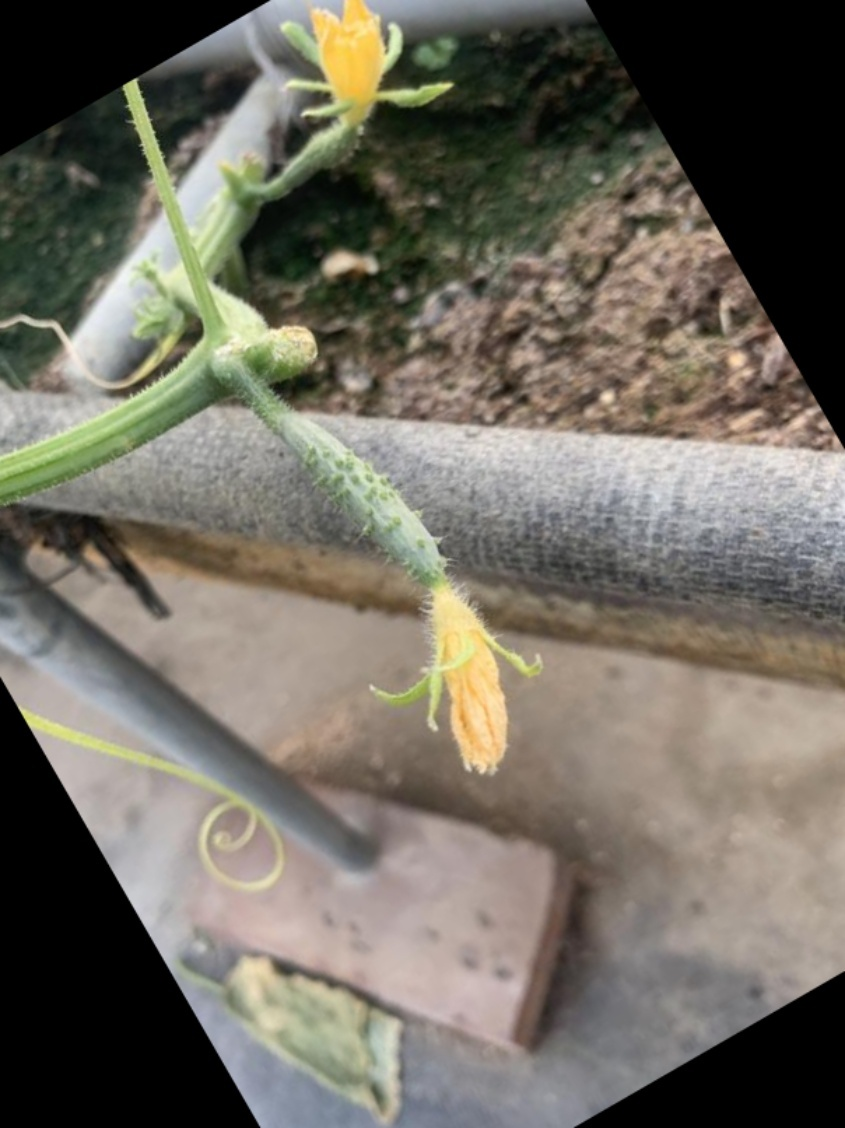bear: (264, 369, 567, 783)
